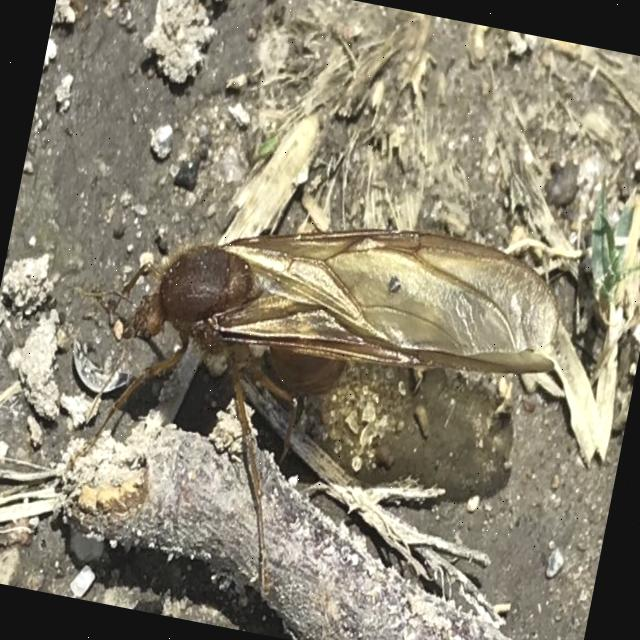Alive-Male-Alate: (23, 167, 576, 636)
